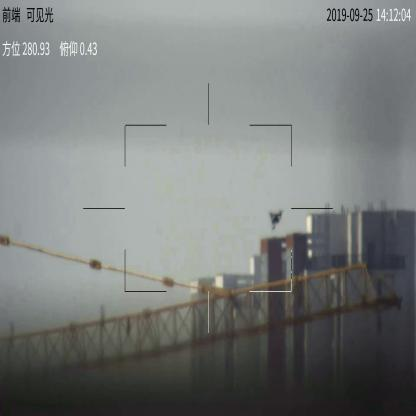uav: (268, 208, 284, 232)
